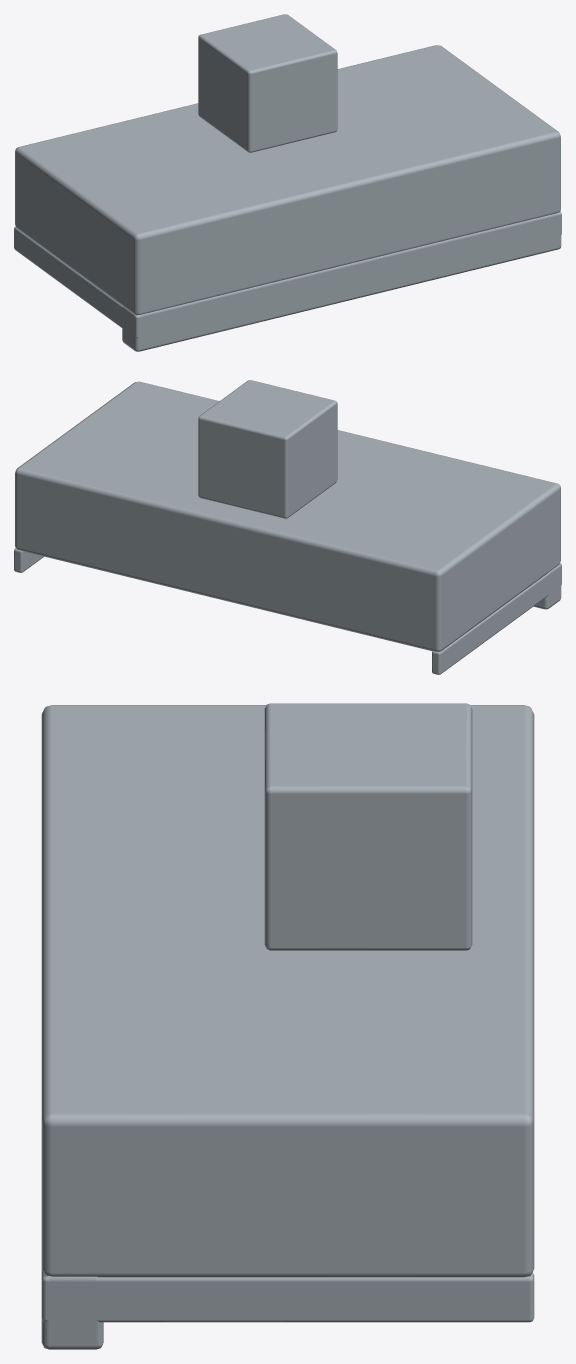
File: SM_ExhaustHood.glb
The picture shows the model from 3 angles, top to bottom: view 1: azimuth 30°, elevation 25°; view 2: azimuth 150°, elevation 25°; view 3: azimuth 270°, elevation 25°; orthographic projection. The views are drawn at different scales.
Visible parts, largest first — view 1: SM_ExhaustHood; view 2: SM_ExhaustHood; view 3: SM_ExhaustHood.
Part boxes in pixels (x1,y1,x2,y2): SM_ExhaustHood: [14, 14, 561, 351]; SM_ExhaustHood: [14, 380, 561, 674]; SM_ExhaustHood: [41, 703, 534, 1349].
Size of the model in its own units: 1.9 by 0.85 by 0.95.
3 materials, 3 textured.
